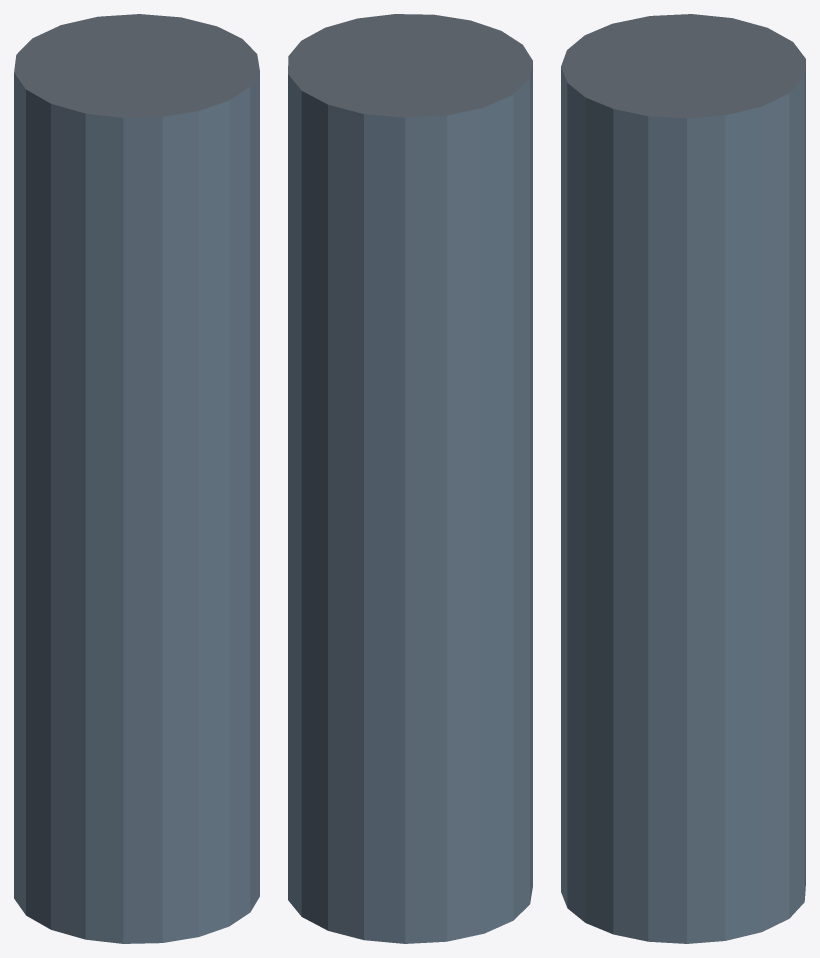
The picture shows the model from 3 angles, left to right: view 1: azimuth 30°, elevation 25°; view 2: azimuth 150°, elevation 25°; view 3: azimuth 270°, elevation 25°; orthographic projection.
Parts seen in each view (by area): view 1: HP-w442103687; view 2: HP-w442103687; view 3: HP-w442103687.
Boxes of the visible parts, x1,y1,x2,y2 form: HP-w442103687: [14, 14, 259, 943]; HP-w442103687: [288, 14, 532, 943]; HP-w442103687: [561, 14, 805, 943].
Bounding box in the file's own units: 44.34 × 163 × 43.94.
